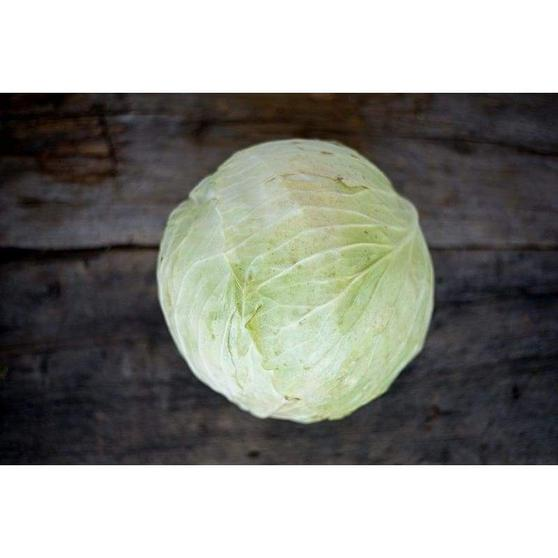cabbage: (154, 134, 436, 423)
